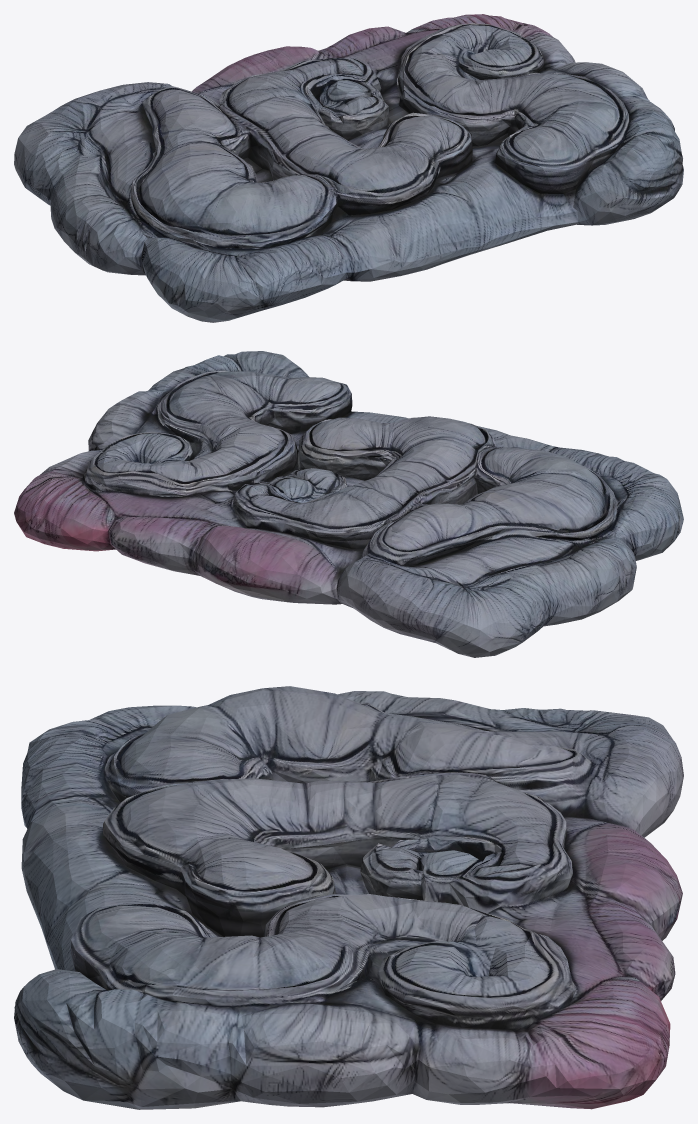
Rendered from mod2.glb.
The picture shows the model from 3 angles, top to bottom: view 1: azimuth 30°, elevation 25°; view 2: azimuth 150°, elevation 25°; view 3: azimuth 270°, elevation 25°; orthographic projection. The views are drawn at different scales.
Visible parts, largest first — view 1: tripo_node_5109d91d-ef37-42b5-930c-292f80f7365c; view 2: tripo_node_5109d91d-ef37-42b5-930c-292f80f7365c; view 3: tripo_node_5109d91d-ef37-42b5-930c-292f80f7365c.
Boxes of the visible parts, x1,y1,x2,y2 form: tripo_node_5109d91d-ef37-42b5-930c-292f80f7365c: (14,14,683,322); tripo_node_5109d91d-ef37-42b5-930c-292f80f7365c: (14,351,683,657); tripo_node_5109d91d-ef37-42b5-930c-292f80f7365c: (14,686,683,1109).
Size of the model in its own units: 0.9998 by 0.1728 by 0.7221.
Materials: 1 (1 with a texture image).
